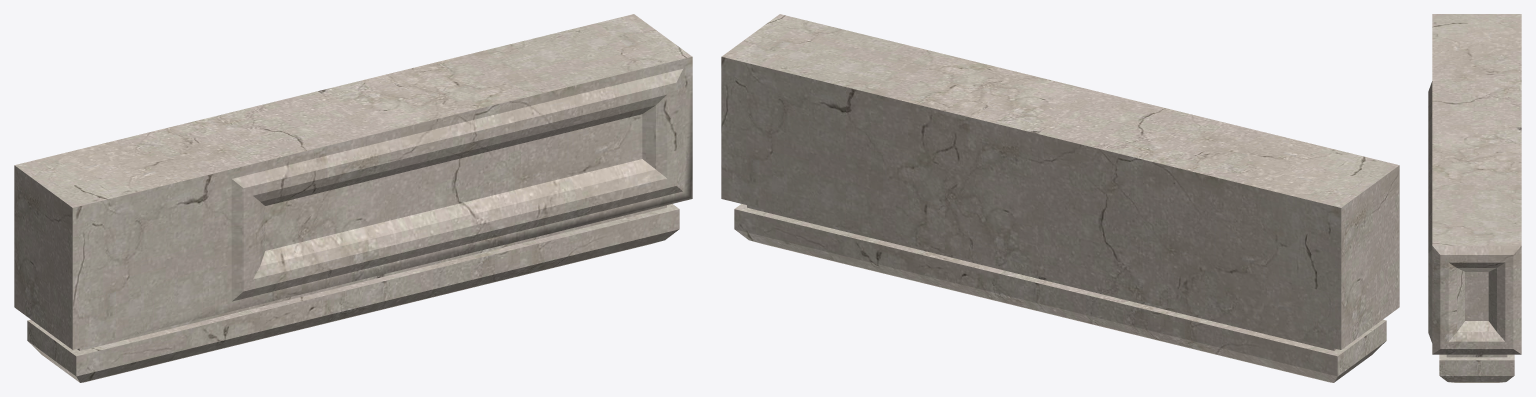
The model's file is pasted__marble_tile_107.fbx.
3 views of the same model, side by side, from view 1: azimuth 30°, elevation 25°; view 2: azimuth 150°, elevation 25°; view 3: azimuth 270°, elevation 25° (orthographic). The views are drawn at different scales.
Visible parts, largest first — view 1: pasted__marble_tile_107; view 2: pasted__marble_tile_107; view 3: pasted__marble_tile_107.
Boxes of the visible parts, <box> form: pasted__marble_tile_107: <box>14,14,692,382</box>; pasted__marble_tile_107: <box>721,14,1399,382</box>; pasted__marble_tile_107: <box>1428,14,1521,382</box>.
Size of the model in its own units: 282 by 47.7 by 83.
